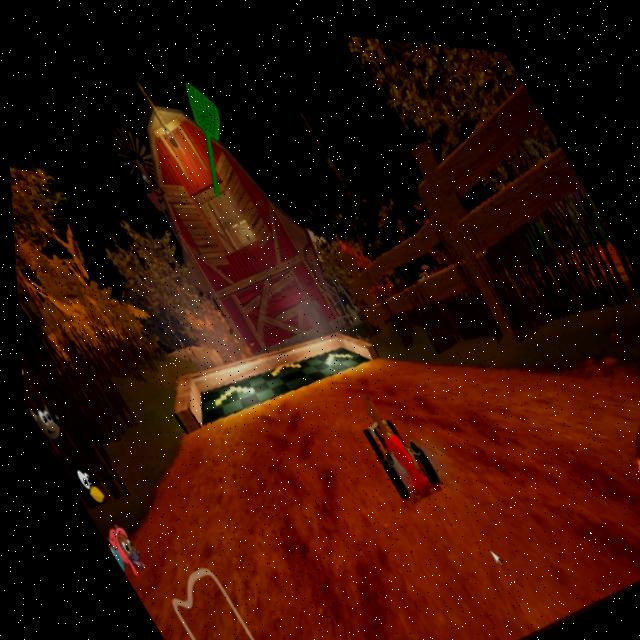player_kart: (334, 371, 448, 513)
power_up: (198, 356, 256, 411)
track: (153, 362, 463, 640)
